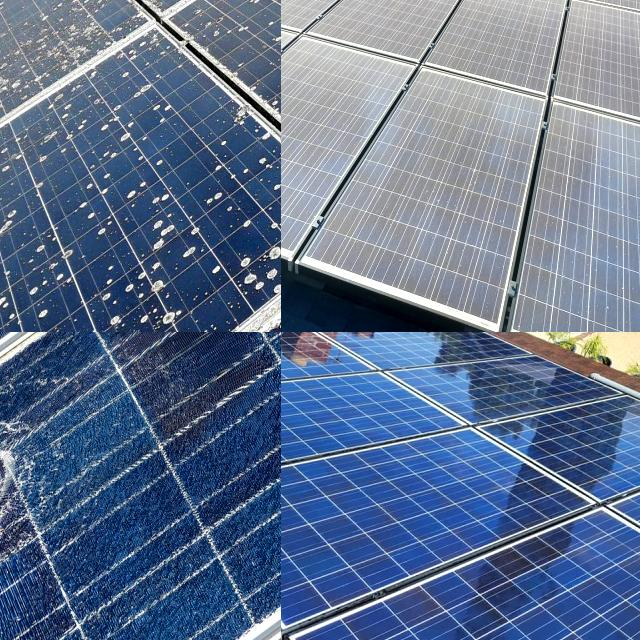bird: (109, 251, 182, 320), (138, 146, 197, 224), (216, 126, 276, 180), (32, 237, 78, 300), (222, 245, 281, 294), (138, 77, 181, 132), (43, 22, 86, 64), (100, 106, 135, 138)
crack: (281, 420, 609, 640), (430, 355, 640, 514), (281, 358, 461, 519), (374, 351, 640, 442), (537, 434, 640, 640)
dust: (597, 151, 640, 332), (406, 156, 486, 246)
